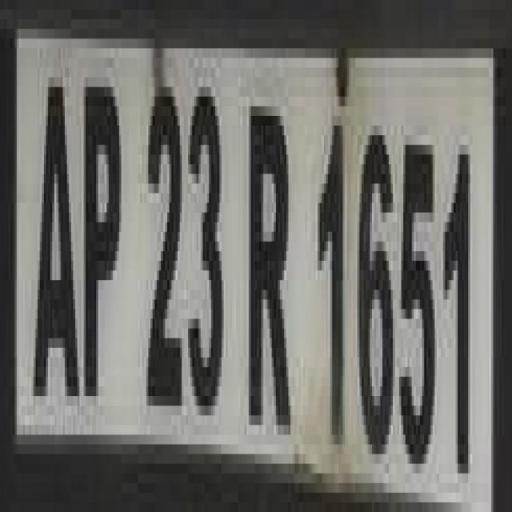number plate: (14, 10, 512, 502)
